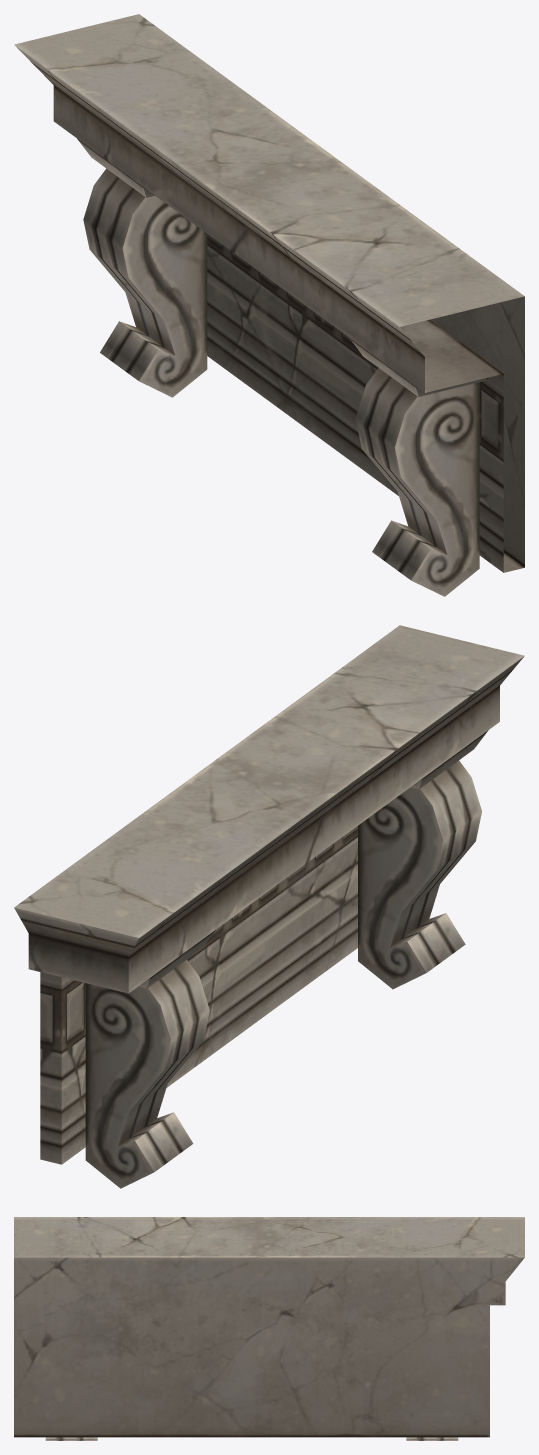
Rendered from cornice02_endL.fbx.
3 renders of one model, top to bottom at view 1: azimuth 30°, elevation 25°; view 2: azimuth 150°, elevation 25°; view 3: azimuth 270°, elevation 25°, orthographic. The views are drawn at different scales.
Visible parts, largest first — view 1: cornice02_endL; view 2: cornice02_endL; view 3: cornice02_endL.
Boxes of the visible parts, box(x1,y1,x2,y2) form: cornice02_endL: box(14, 14, 524, 596); cornice02_endL: box(14, 625, 524, 1188); cornice02_endL: box(14, 1217, 524, 1440).
Bounding box in the file's own units: 60.38 × 140 × 322.
